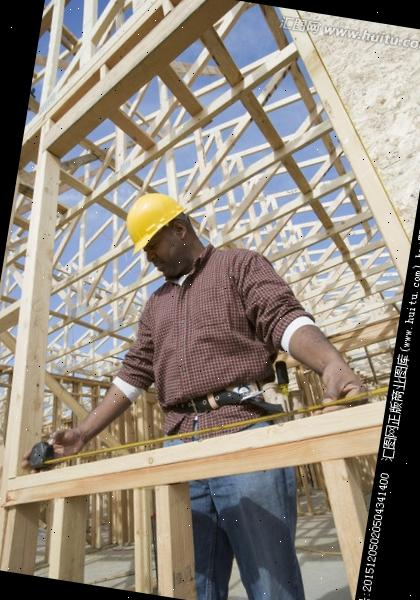helmet: (116, 183, 196, 264)
no_wear: (130, 260, 292, 446)
